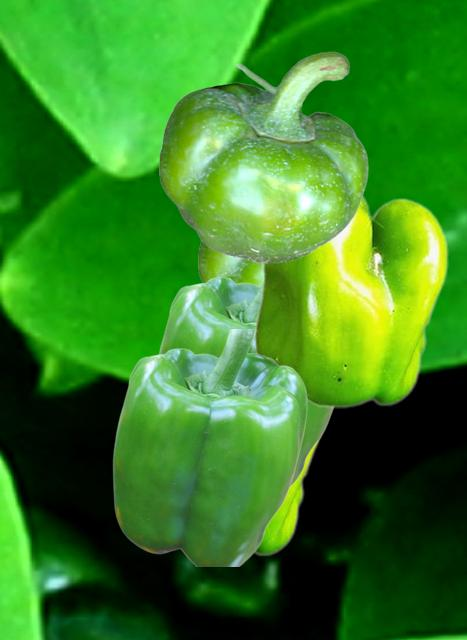bell_pepper: (112, 329, 306, 565), (159, 51, 367, 262), (253, 194, 447, 407), (158, 276, 334, 486), (198, 177, 368, 285), (254, 435, 324, 557)
